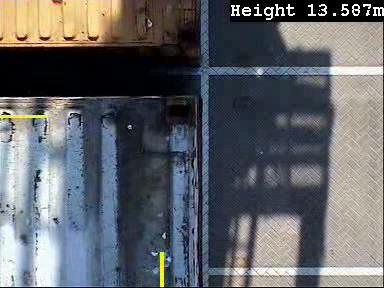groundmarker_2: (105, 75, 156, 108), (100, 225, 151, 258)
